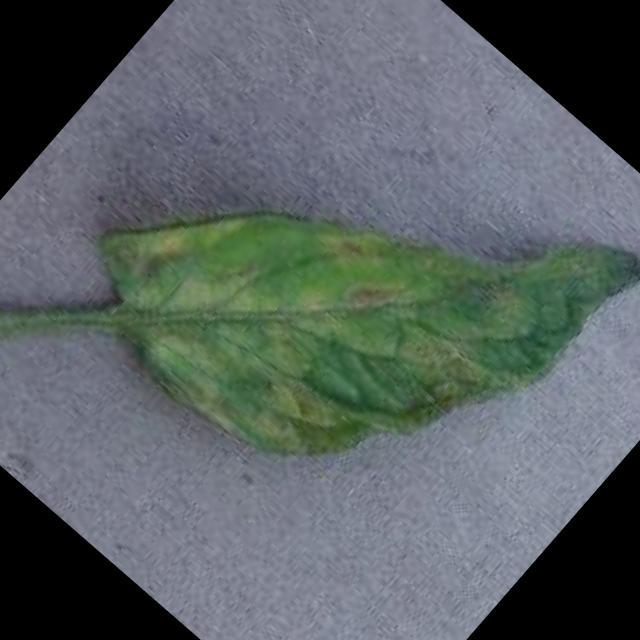Tomato mold leaf: (56, 0, 640, 580)
